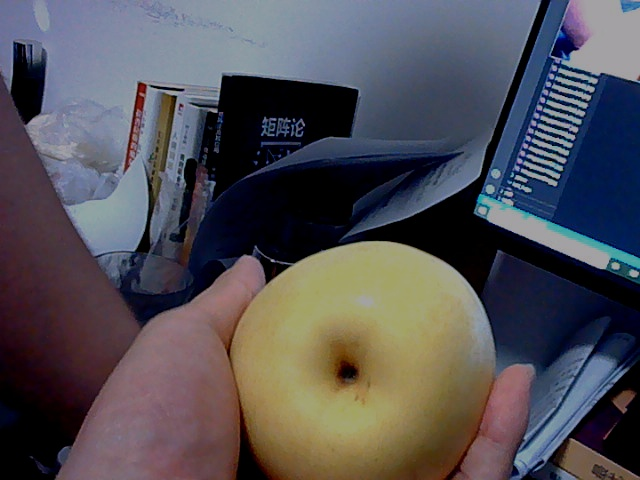pear: (244, 238, 505, 475)
